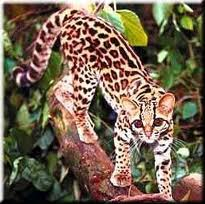cat: (10, 5, 177, 198)
